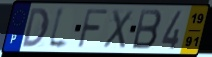4: (159, 9, 184, 51)
B: (130, 8, 163, 51)
D: (21, 7, 50, 49)
F: (76, 7, 110, 50)
L: (46, 5, 71, 52)
X: (101, 8, 135, 50)
